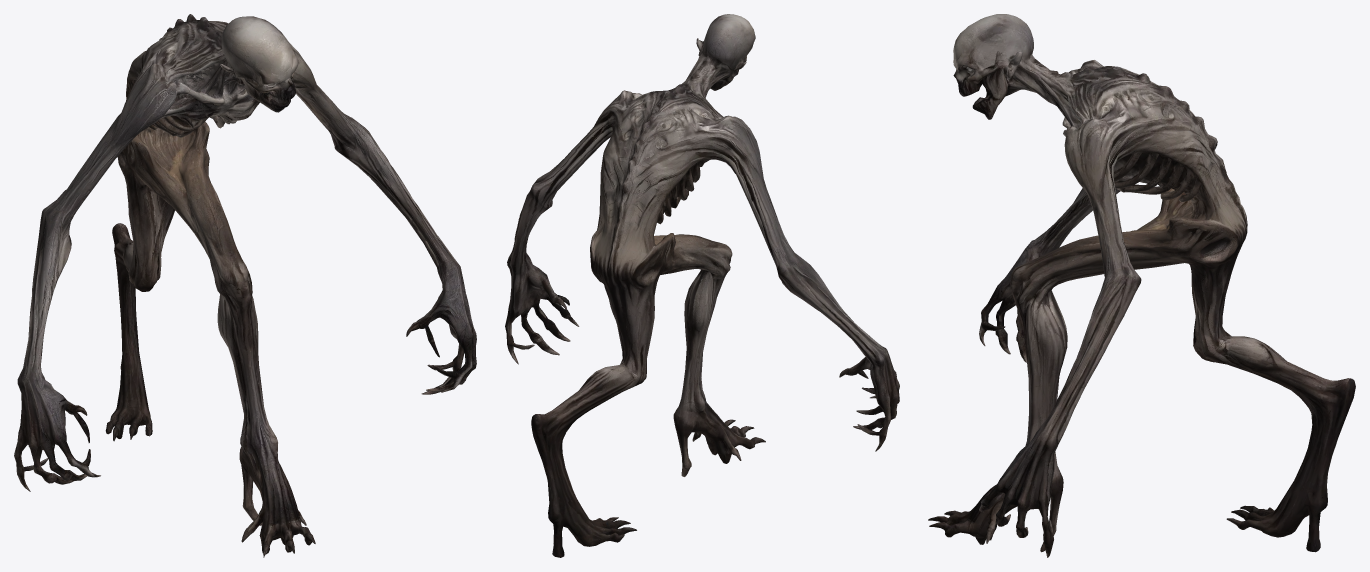
File: mx_dr_crawler.glb
3 renders of one model, left to right at view 1: azimuth 30°, elevation 25°; view 2: azimuth 150°, elevation 25°; view 3: azimuth 270°, elevation 25°, orthographic. The views are drawn at different scales.
Visible parts, largest first — view 1: Mesh_0; view 2: Mesh_0; view 3: Mesh_0.
Boxes of the visible parts, <box> form: Mesh_0: <box>14,14,476,557</box>; Mesh_0: <box>505,14,899,557</box>; Mesh_0: <box>928,14,1355,557</box>.
Bounding box in the file's own units: 1.69 × 1.9 × 1.41.
Materials: 1 (1 with a texture image).
